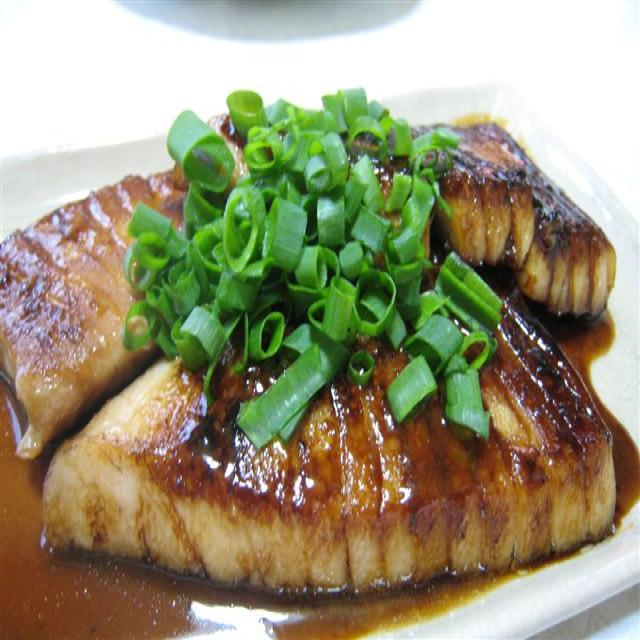熟制海鲜: (1, 120, 628, 572)
